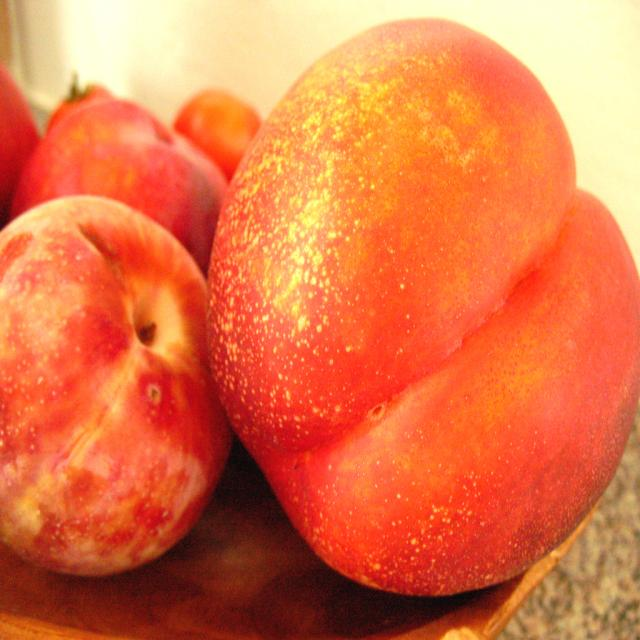Peach: (0, 18, 640, 600)
